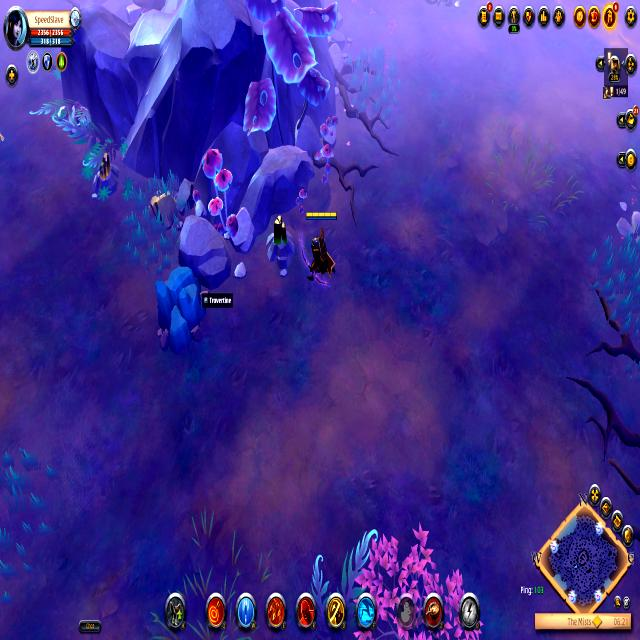player: (88, 146, 123, 206), (263, 210, 295, 266)
red: (300, 204, 340, 291)
tree: (146, 263, 214, 358)
